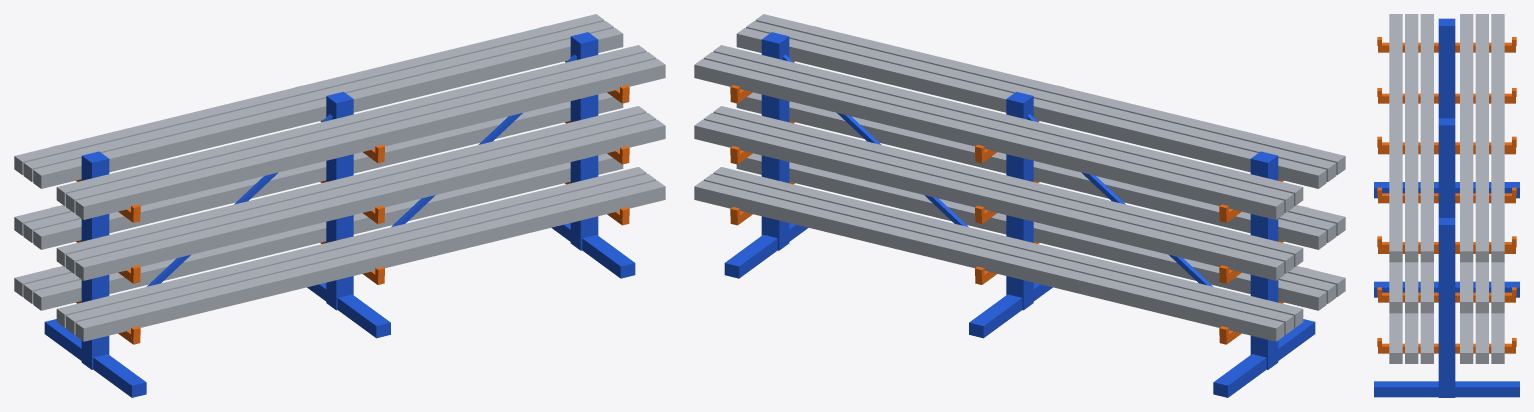
The picture shows the model from 3 angles, left to right: view 1: azimuth 30°, elevation 25°; view 2: azimuth 150°, elevation 25°; view 3: azimuth 270°, elevation 25°; orthographic projection. The views are drawn at different scales.
Bounding box in the file's own units: 10 × 3.4 × 2.6.
